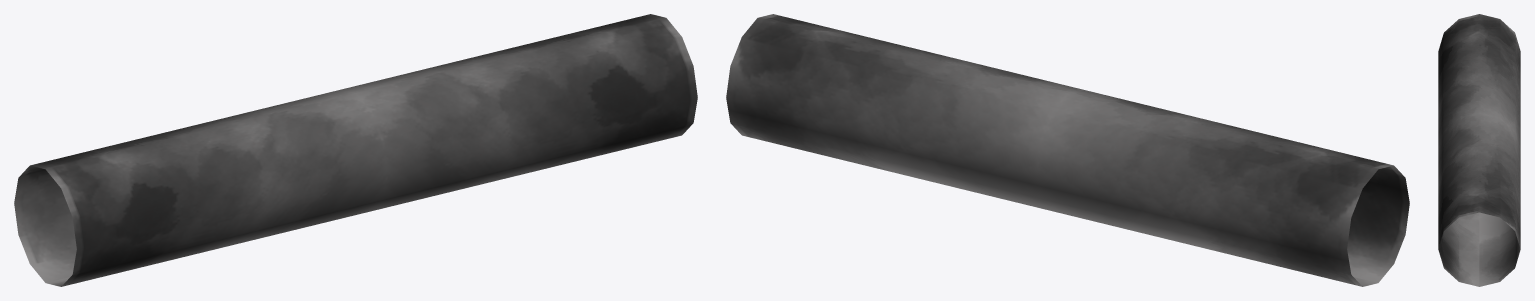
The model's file is Chariot03_chanzi_sunhui02.FBX.
3 views of the same model, side by side, from view 1: azimuth 30°, elevation 25°; view 2: azimuth 150°, elevation 25°; view 3: azimuth 270°, elevation 25° (orthographic). The views are drawn at different scales.
Visible parts, largest first — view 1: Chariot03_chanzi_sunhui02; view 2: Chariot03_chanzi_sunhui02; view 3: Chariot03_chanzi_sunhui02.
Boxes of the visible parts, left/top/right/bottom form: Chariot03_chanzi_sunhui02: left=14, top=14, right=697, bottom=286; Chariot03_chanzi_sunhui02: left=726, top=14, right=1409, bottom=286; Chariot03_chanzi_sunhui02: left=1438, top=14, right=1520, bottom=286.
Size of the model in its own units: 0.7485 by 0.131 by 0.131.
